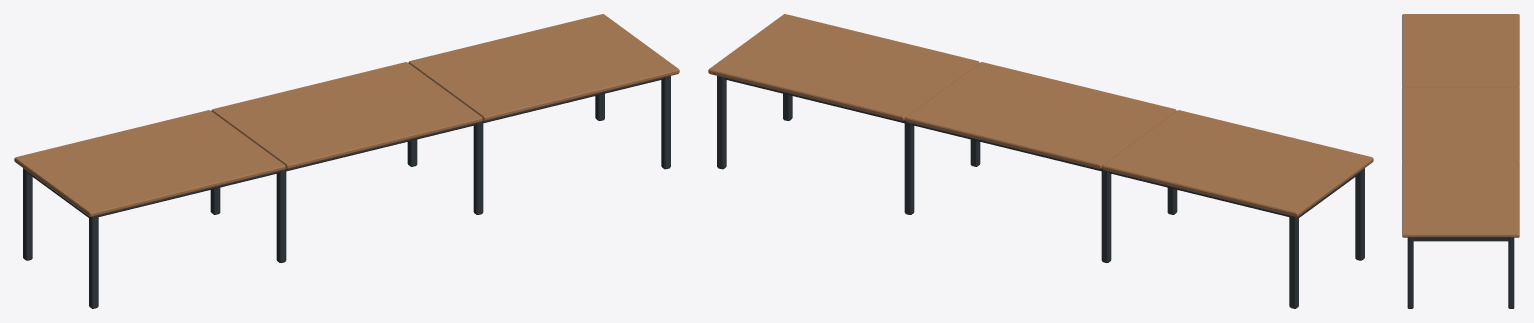
File: bancada-laboratorio.obj
3 renders of one model, left to right at view 1: azimuth 30°, elevation 25°; view 2: azimuth 150°, elevation 25°; view 3: azimuth 270°, elevation 25°, orthographic. The views are drawn at different scales.
Visible parts, largest first — view 1: bancada-laboratorio_carvalho, bancada-laboratorio_metal_escuro; view 2: bancada-laboratorio_carvalho, bancada-laboratorio_metal_escuro; view 3: bancada-laboratorio_carvalho, bancada-laboratorio_metal_escuro.
Part boxes in pixels (x1,y1,x2,y2): bancada-laboratorio_carvalho: [14, 14, 679, 217]; bancada-laboratorio_metal_escuro: [23, 76, 670, 308]; bancada-laboratorio_carvalho: [708, 14, 1373, 217]; bancada-laboratorio_metal_escuro: [717, 76, 1364, 308]; bancada-laboratorio_carvalho: [1402, 14, 1519, 237]; bancada-laboratorio_metal_escuro: [1407, 237, 1514, 308].
Size of the model in its own units: 4.81 by 0.78 by 1.08.
